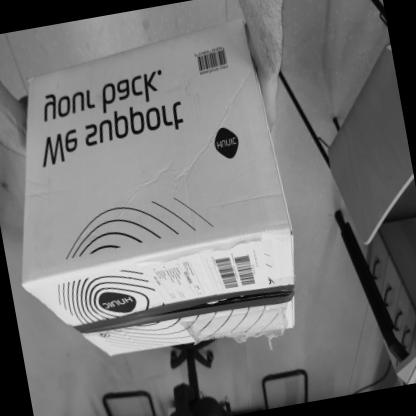box: (0, 0, 351, 395)
